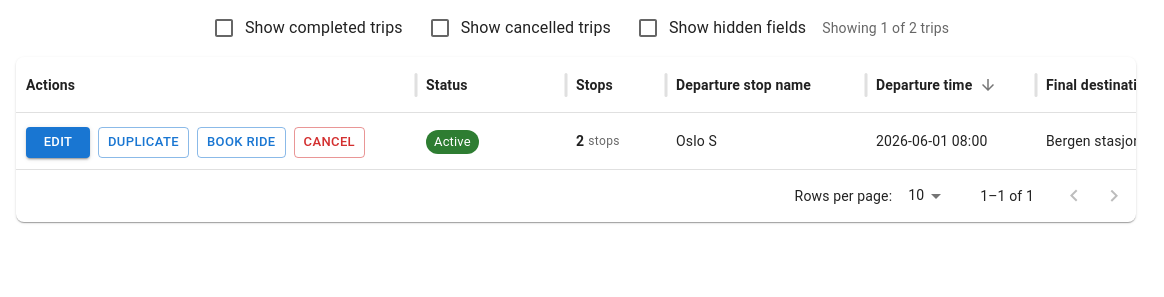
Test: CarPoolingTrips › shows a Cancelled chip on rows whose trip is cancelled
Expected: the text "Cancelled departure" is not shown
Click the checkbox labelled "Show cancelled trips" at (519,28), box [428, 16, 611, 40]
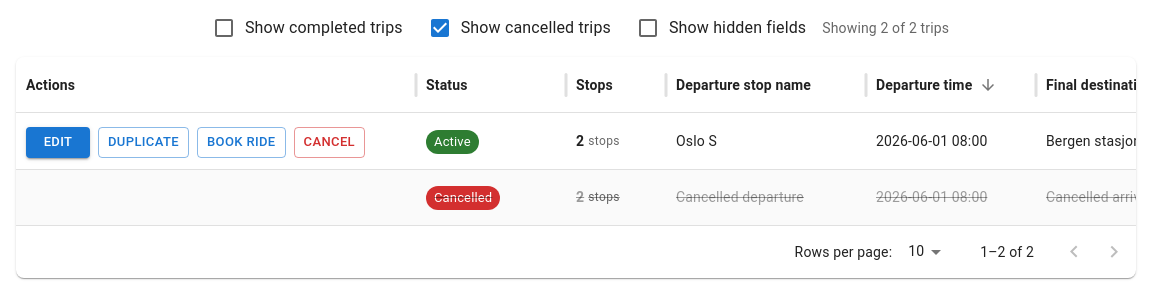
Now the text "Cancelled" is shown, box [434, 190, 492, 205]
